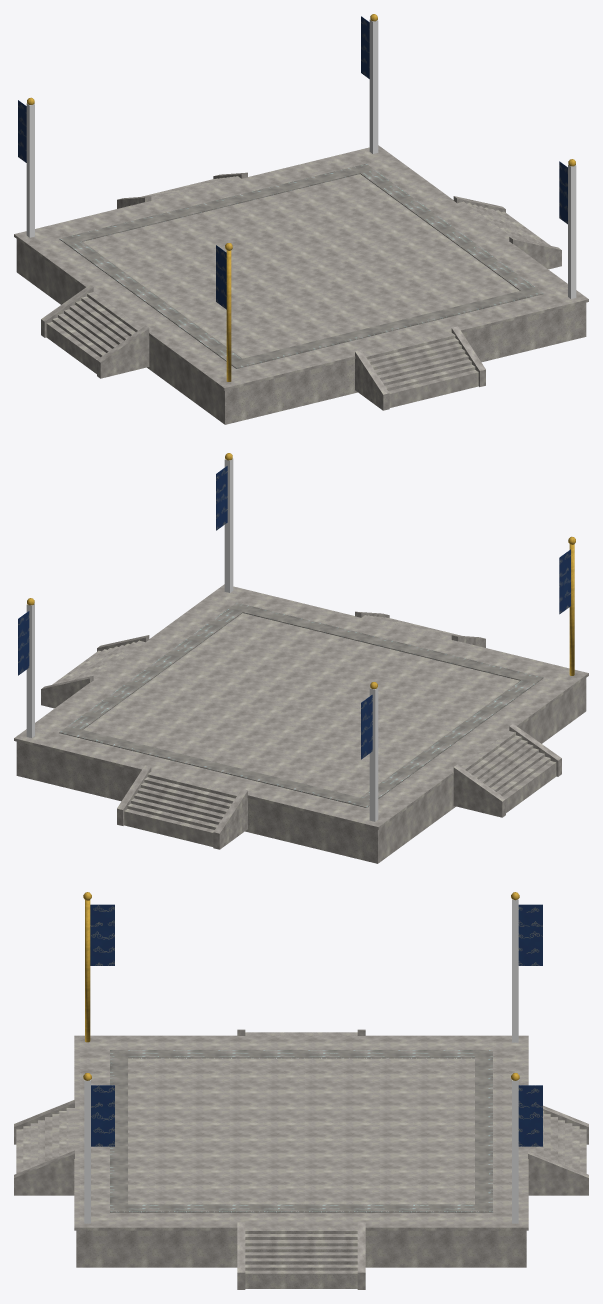
The model's file is martial_stage.glb.
3 renders of one model, top to bottom at view 1: azimuth 30°, elevation 25°; view 2: azimuth 150°, elevation 25°; view 3: azimuth 270°, elevation 25°, orthographic. The views are drawn at different scales.
Parts seen in each view (by area): view 1: StagePodiumCap, StagePodiumBase, RuneRing, StageStairsfront, StageStairsleft, StageCheeksleft, Flags, StageCheeksfront, Pole-convcolonly.003, StageStairsright, Pole-convcolonly.001, Pole-convcolonly.002 (+3 smaller); view 2: StagePodiumCap, StagePodiumBase, RuneRing, StageStairsback, StageStairsleft, Flags, StageCheeksleft, StageCheeksback, StageStairsright, StageCheeksright, Pole-convcolonly.002, Pole-convcolonly.001 (+3 smaller); view 3: StagePodiumCap, StagePodiumBase, RuneRing, StageStairsright, Flags, StageStairsfront, StageCheeksfront, StageCheeksback, StageStairsback, StageCheeksright, Poles, Pole-convcolonly.002 (+2 smaller).
Boxes of the visible parts, bbox=[...] form: StagePodiumCap: bbox=[14, 145, 588, 390]; StagePodiumBase: bbox=[16, 239, 586, 424]; RuneRing: bbox=[59, 163, 543, 368]; StageStairsfront: bbox=[364, 332, 478, 407]; StageStairsleft: bbox=[46, 292, 141, 373]; StageCheeksleft: bbox=[41, 285, 149, 378]; Flags: bbox=[18, 16, 567, 309]; StageCheeksfront: bbox=[355, 326, 485, 410]; Pole-convcolonly.003: bbox=[369, 19, 378, 153]; StageStairsright: bbox=[458, 201, 550, 245]; Pole-convcolonly.001: bbox=[26, 103, 34, 237]; Pole-convcolonly.002: bbox=[568, 164, 576, 298]; StagePodiumCap: bbox=[14, 584, 588, 829]; StagePodiumBase: bbox=[16, 678, 586, 863]; RuneRing: bbox=[59, 602, 543, 807]; StageStairsback: bbox=[124, 771, 238, 846]; StageStairsleft: bbox=[461, 731, 556, 812]; Flags: bbox=[18, 466, 570, 759]; StageCheeksleft: bbox=[453, 724, 561, 817]; StageCheeksback: bbox=[117, 765, 247, 849]; StageStairsright: bbox=[52, 640, 144, 684]; StageCheeksright: bbox=[41, 635, 149, 708]; Pole-convcolonly.002: bbox=[224, 458, 233, 592]; Pole-convcolonly.001: bbox=[369, 687, 378, 821]; StagePodiumCap: bbox=[74, 1035, 528, 1230]; StagePodiumBase: bbox=[76, 1230, 526, 1267]; RuneRing: bbox=[110, 1050, 492, 1212]; StageStairsright: bbox=[245, 1227, 357, 1288]; Flags: bbox=[90, 904, 542, 1146]; StageStairsfront: bbox=[16, 1108, 74, 1173]; StageCheeksfront: bbox=[14, 1099, 74, 1195]; StageCheeksback: bbox=[528, 1105, 588, 1195]; StageStairsback: bbox=[528, 1111, 586, 1173]; StageCheeksright: bbox=[237, 1222, 365, 1289]; Poles: bbox=[83, 892, 519, 1080]; Pole-convcolonly.002: bbox=[84, 1080, 90, 1223].
Size of what is drawn, in the model's own units: 25.54 by 9.3 by 25.54.
4 materials, 4 textured.
